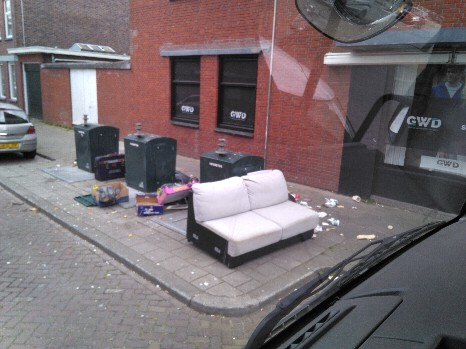Container: (126, 131, 167, 180), (77, 121, 114, 150)
Rest: (219, 181, 298, 269), (139, 193, 168, 219), (96, 160, 126, 184), (92, 191, 126, 206), (175, 187, 208, 196)
